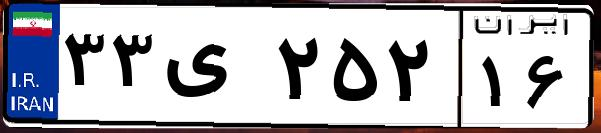1: (475, 38, 525, 113)
2: (270, 28, 330, 110), (385, 28, 445, 110)
3: (57, 26, 110, 100), (110, 28, 158, 98)
5: (330, 28, 385, 110)
6: (525, 38, 570, 115)
ی: (158, 20, 270, 120)
